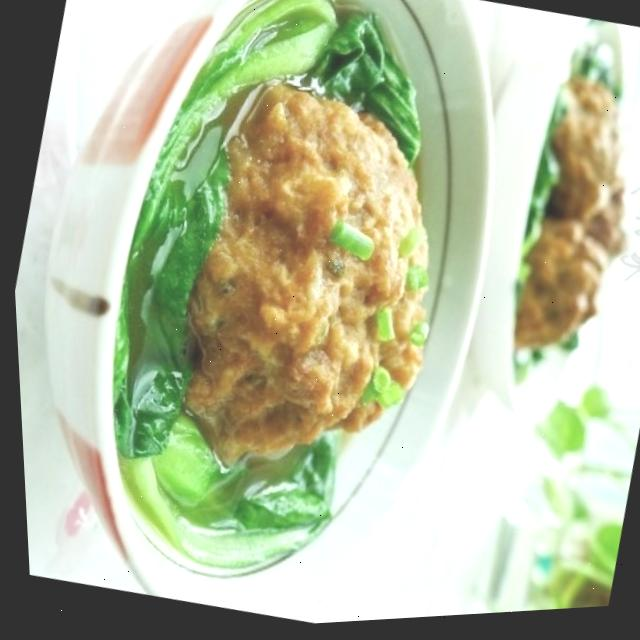猪肉菜式: (0, 0, 617, 640)
